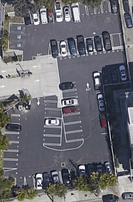parkingspot: (15, 162, 115, 190), (22, 0, 121, 27), (49, 32, 126, 62), (57, 81, 85, 143), (42, 85, 63, 146), (2, 114, 21, 180), (92, 71, 111, 135), (101, 66, 129, 86), (8, 22, 25, 51)
